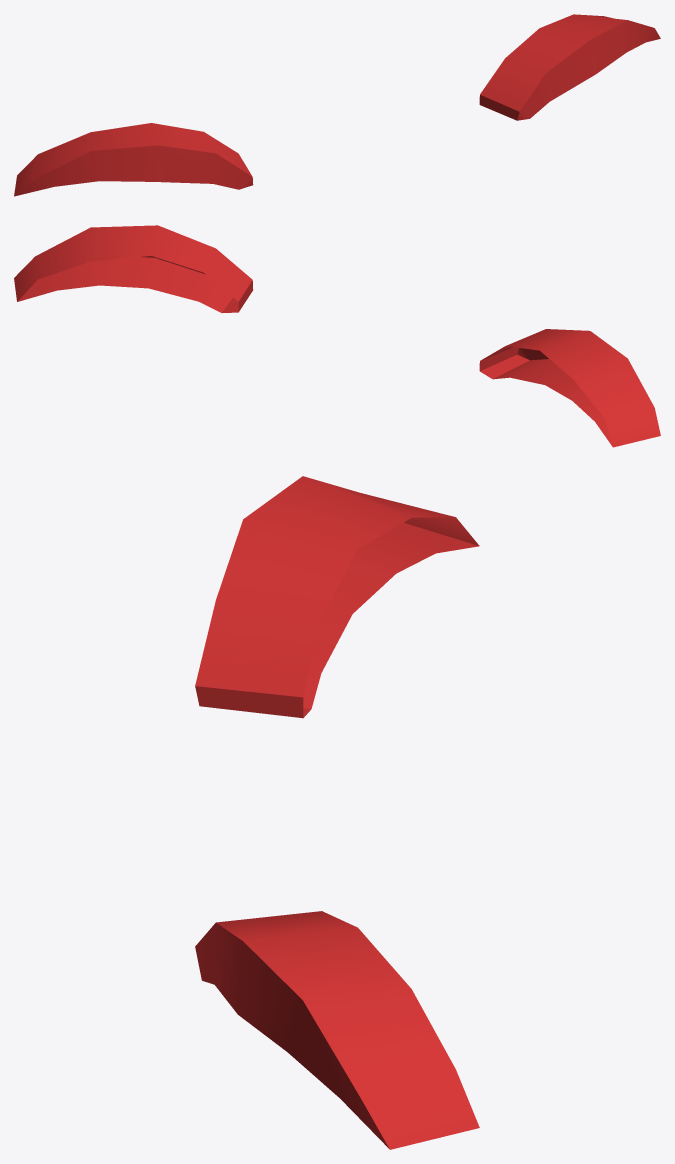
File: Brow_Red_1.fbx
The picture shows the model from 3 angles, top to bottom: view 1: azimuth 30°, elevation 25°; view 2: azimuth 150°, elevation 25°; view 3: azimuth 270°, elevation 25°; orthographic projection. The views are drawn at different scales.
Parts seen in each view (by area): view 1: Brow_Red_1; view 2: Brow_Red_1; view 3: Brow_Red_1.
Part boxes in pixels (x1,y1,x2,y2): Brow_Red_1: [14, 14, 660, 196]; Brow_Red_1: [14, 225, 660, 447]; Brow_Red_1: [195, 476, 479, 1149].
Size of the model in its own units: 33.06 by 2.71 by 6.3.
